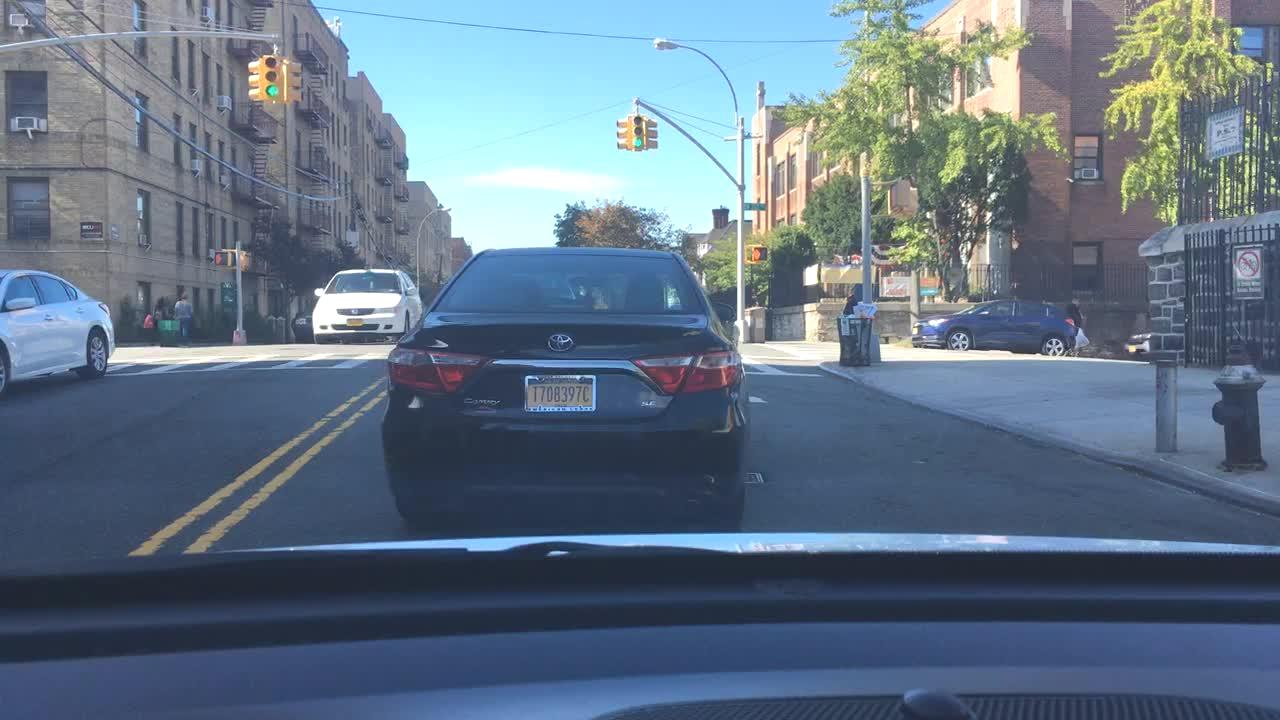Toyota: (541, 328, 581, 359)
